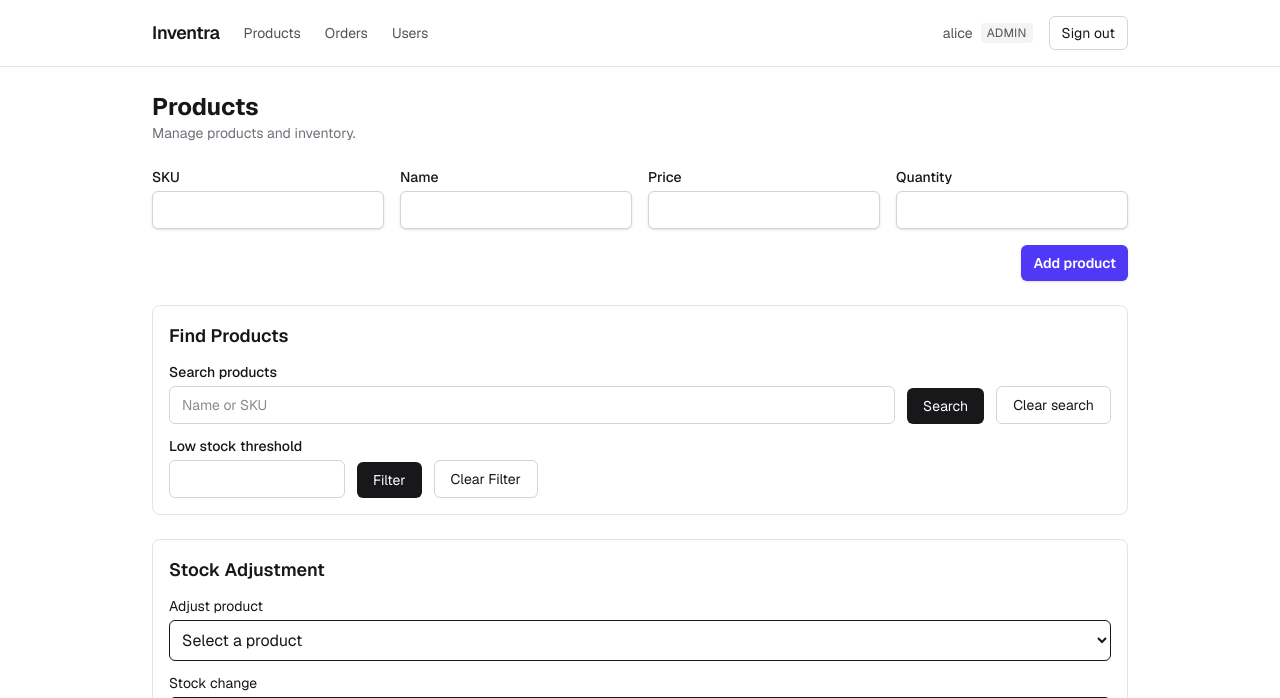
Test: ProductsPage with an active low-stock filter › adds a created product whose quantity is below the threshold
The image size is (1280, 698).
Type "5" into the number field labelled "Low stock threshold" at [257, 479], box [169,460,345,498]
Click the button "Filter" at [389, 480], box [357,462,422,498]
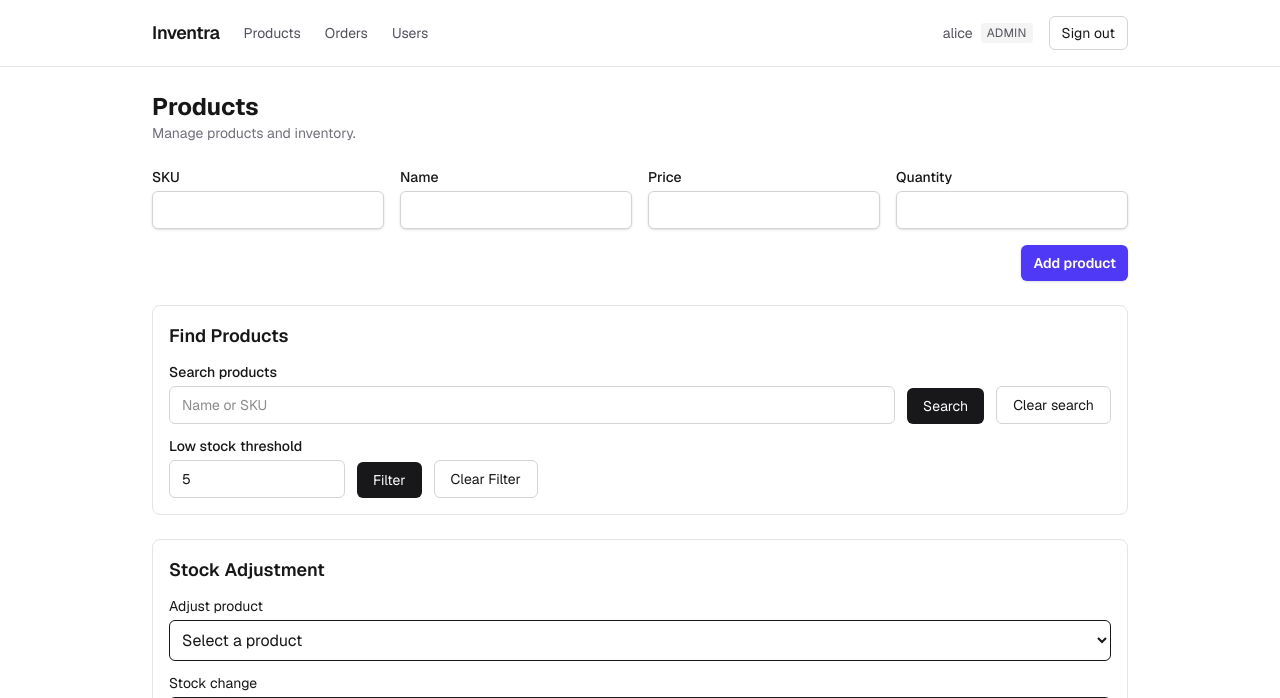
Type "MS-002" into the field labelled "SKU" at [268, 210], box [152,191,384,229]
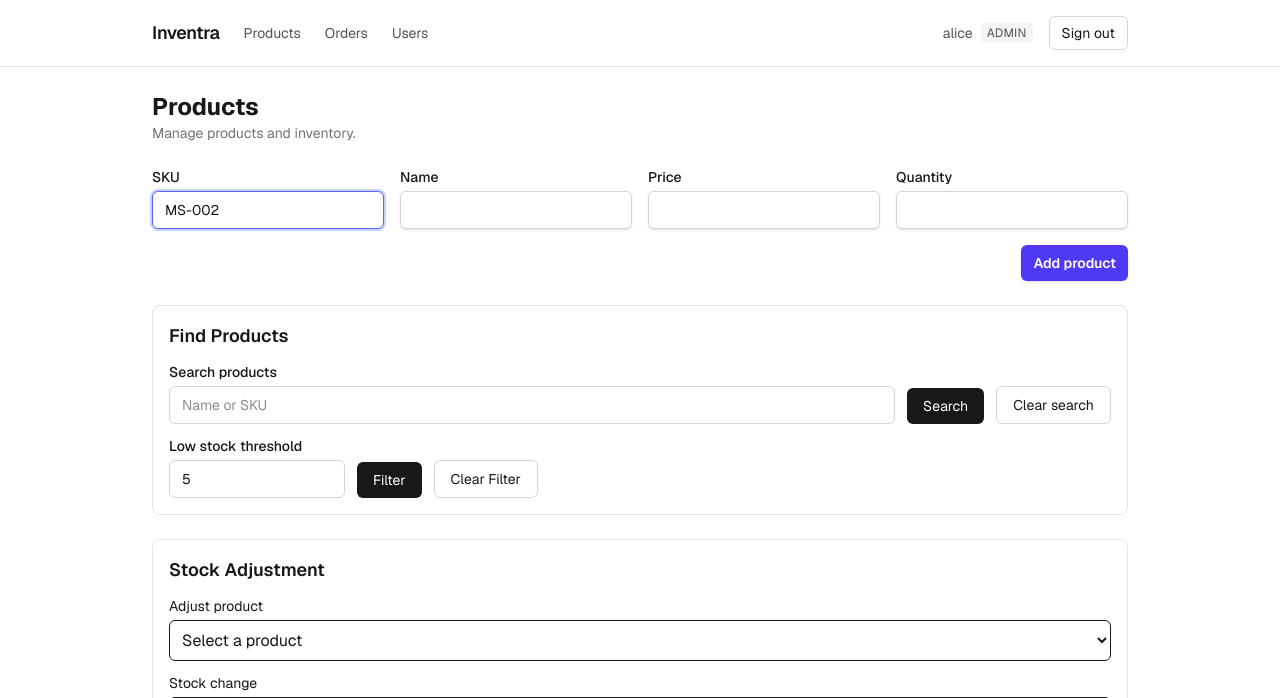
Type "Mouse" into the field labelled "Name" at [516, 210], box [400,191,632,229]
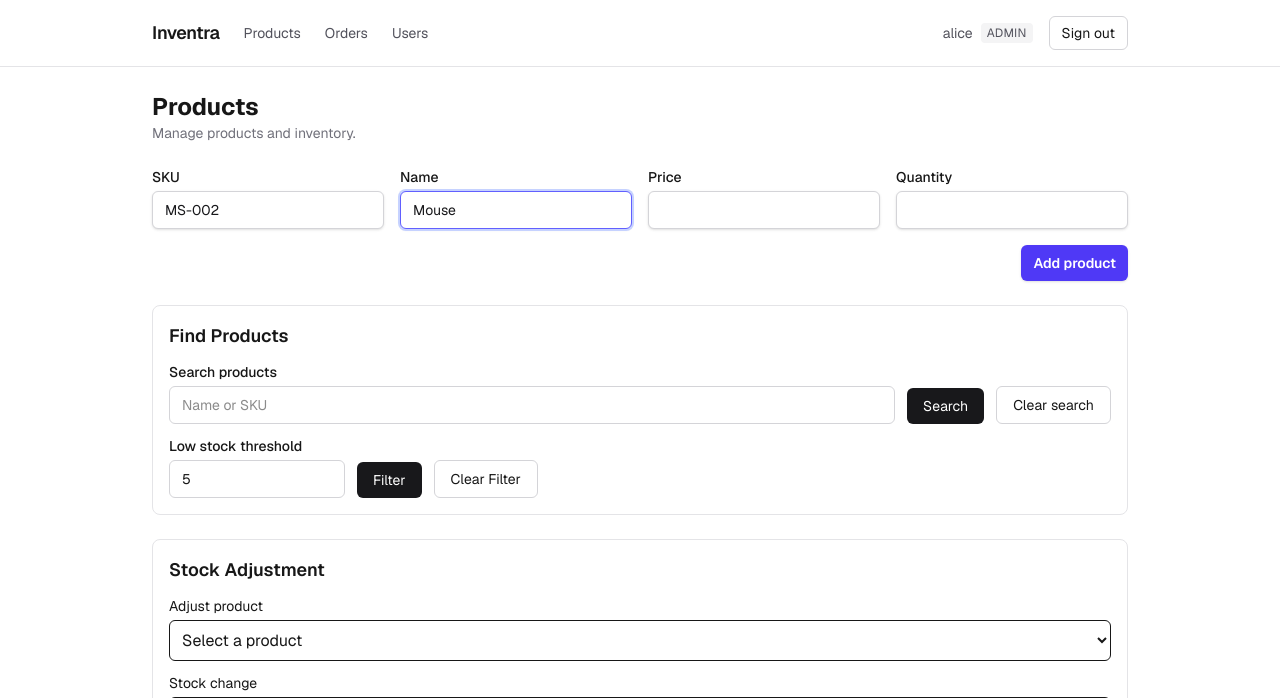
Type "25" into the number field labelled "Price" at [764, 210], box [648,191,880,229]
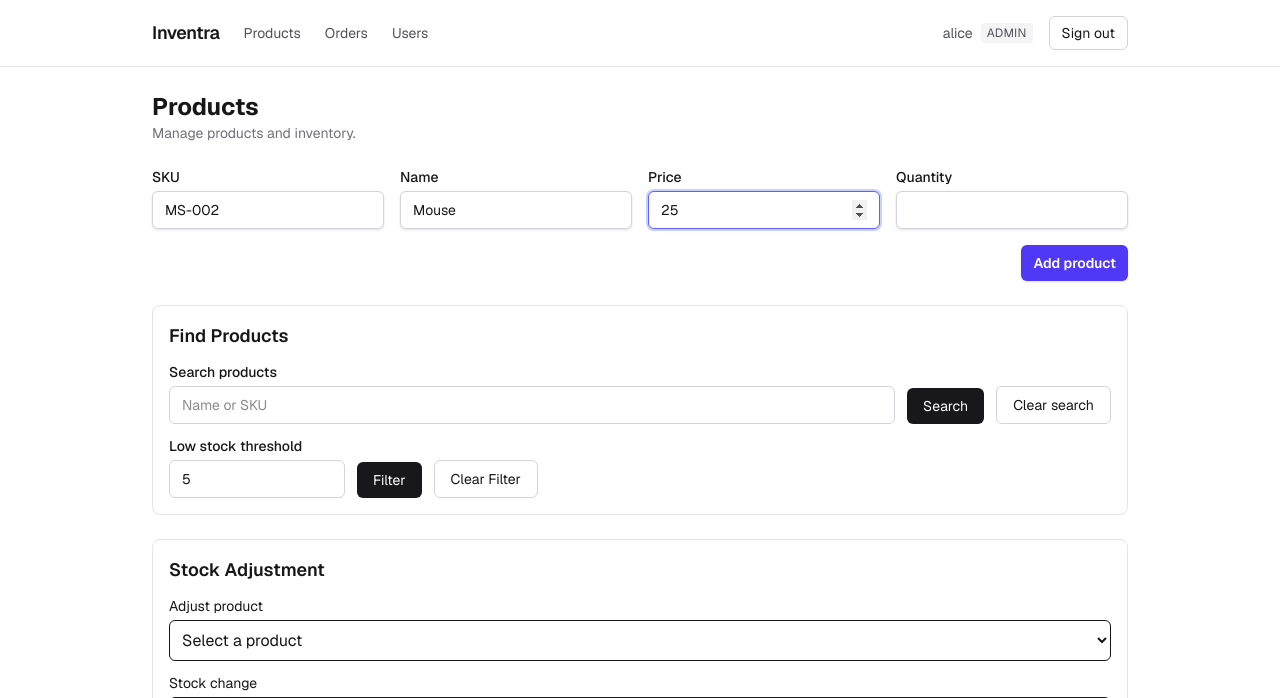
Type "1" into the number field labelled "Quantity" at [1012, 210], box [896,191,1128,229]
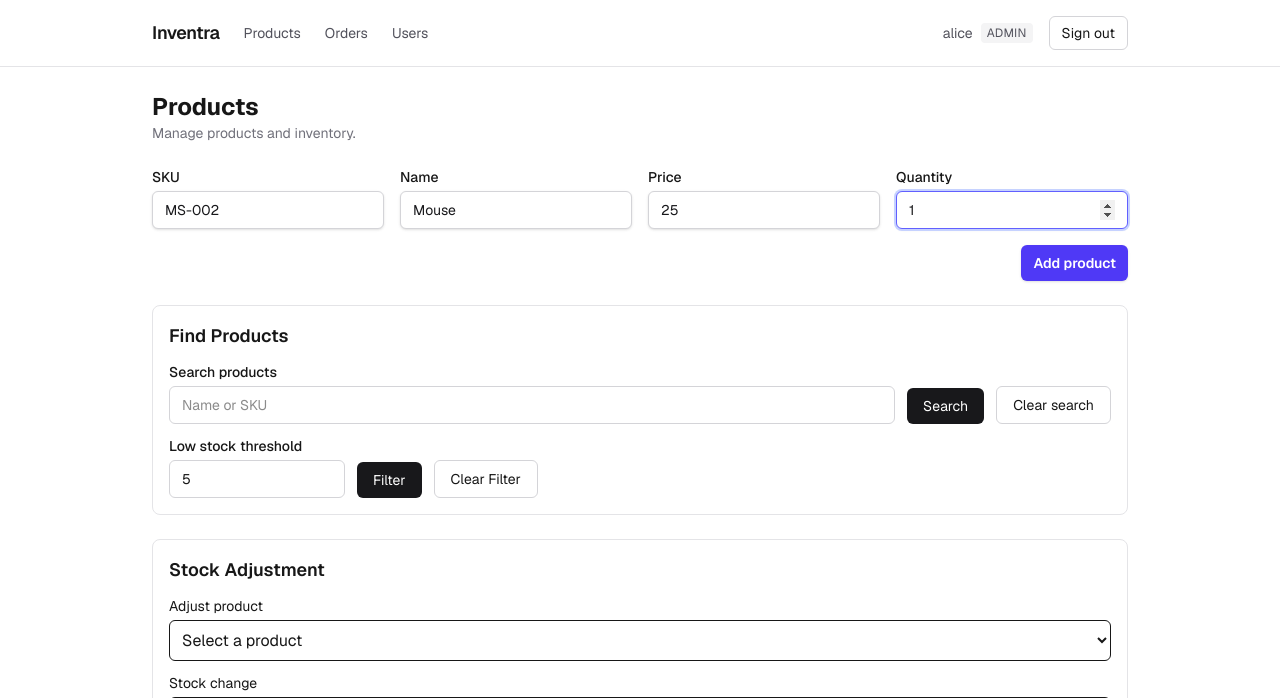
Click the button "Add product" at [1075, 263], box [1022,245,1128,281]
(page scrolled)
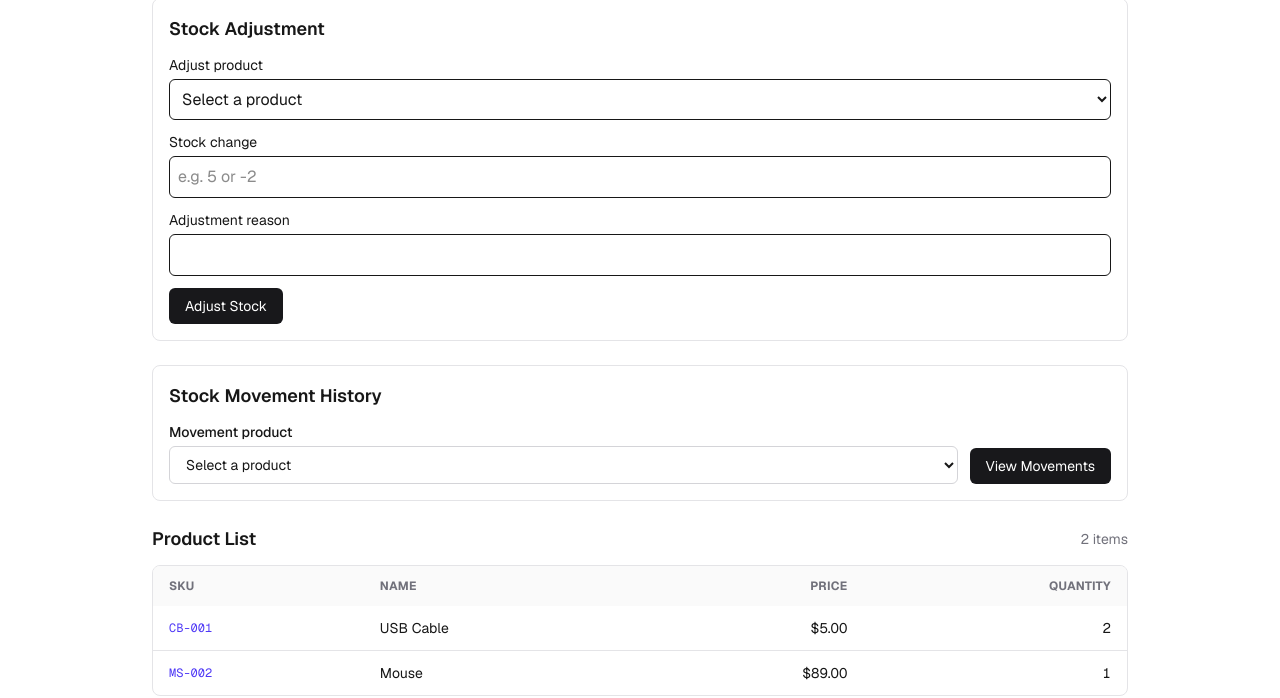
Check: the text "Mouse" is shown, box [364,650,647,695]
Check: the text "2 items" is shown, box [1081,529,1128,549]
